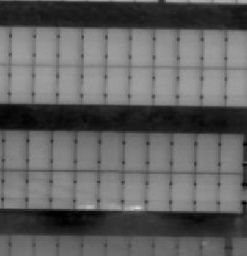solar: (7, 25, 37, 67), (31, 25, 61, 67), (55, 25, 85, 67), (79, 25, 109, 67), (102, 25, 132, 67), (126, 26, 156, 68), (150, 26, 180, 68), (176, 26, 206, 68), (199, 27, 229, 69), (199, 65, 229, 107), (174, 65, 204, 107), (150, 64, 180, 106), (125, 64, 155, 106), (103, 64, 133, 106), (80, 64, 110, 106), (53, 63, 83, 105), (29, 63, 59, 105), (6, 63, 36, 105), (25, 129, 55, 171), (49, 129, 79, 171), (71, 129, 101, 171), (97, 130, 127, 172), (120, 130, 150, 172), (144, 132, 174, 174), (168, 132, 198, 174), (192, 132, 222, 174), (217, 132, 247, 174), (217, 170, 247, 212), (191, 170, 221, 212), (168, 170, 198, 212), (144, 170, 174, 212), (119, 169, 149, 211), (95, 169, 125, 211), (72, 168, 102, 210), (48, 168, 78, 210), (25, 167, 55, 209), (1, 129, 30, 171), (1, 167, 29, 209)
